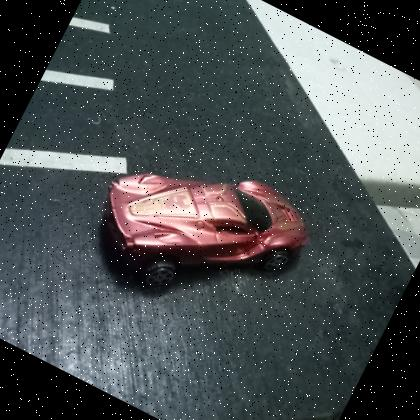Car: (102, 174, 308, 291)
